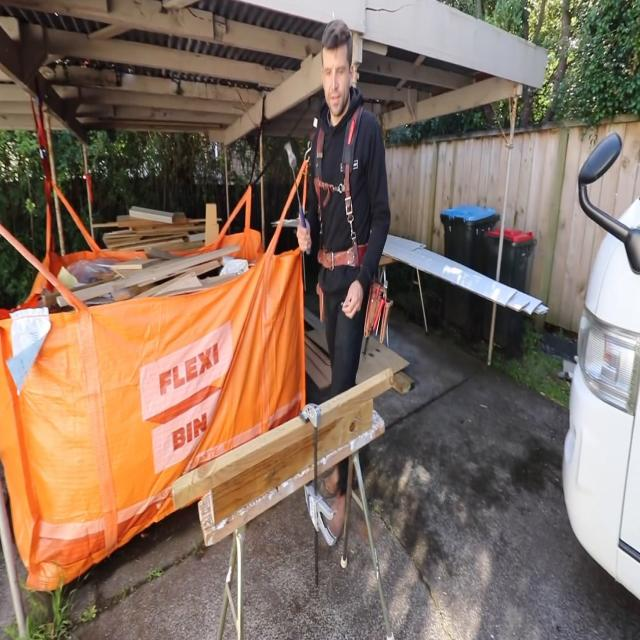hammer: (284, 142, 310, 254)
